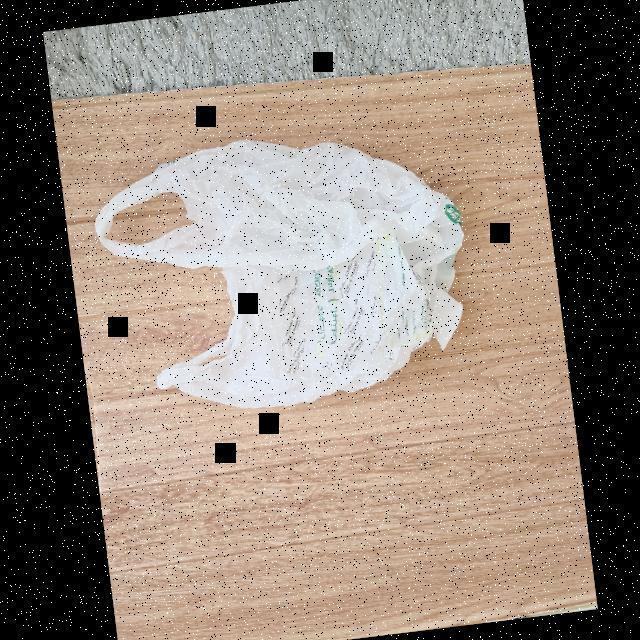plastic_bag: (87, 111, 486, 432)
